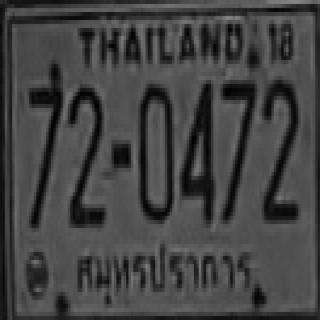N00: (136, 80, 172, 220)
N02: (261, 76, 297, 220), (67, 84, 103, 224)
N04: (179, 76, 213, 220)
N07: (27, 64, 61, 224), (220, 76, 254, 220)
P57: (70, 234, 259, 311)
